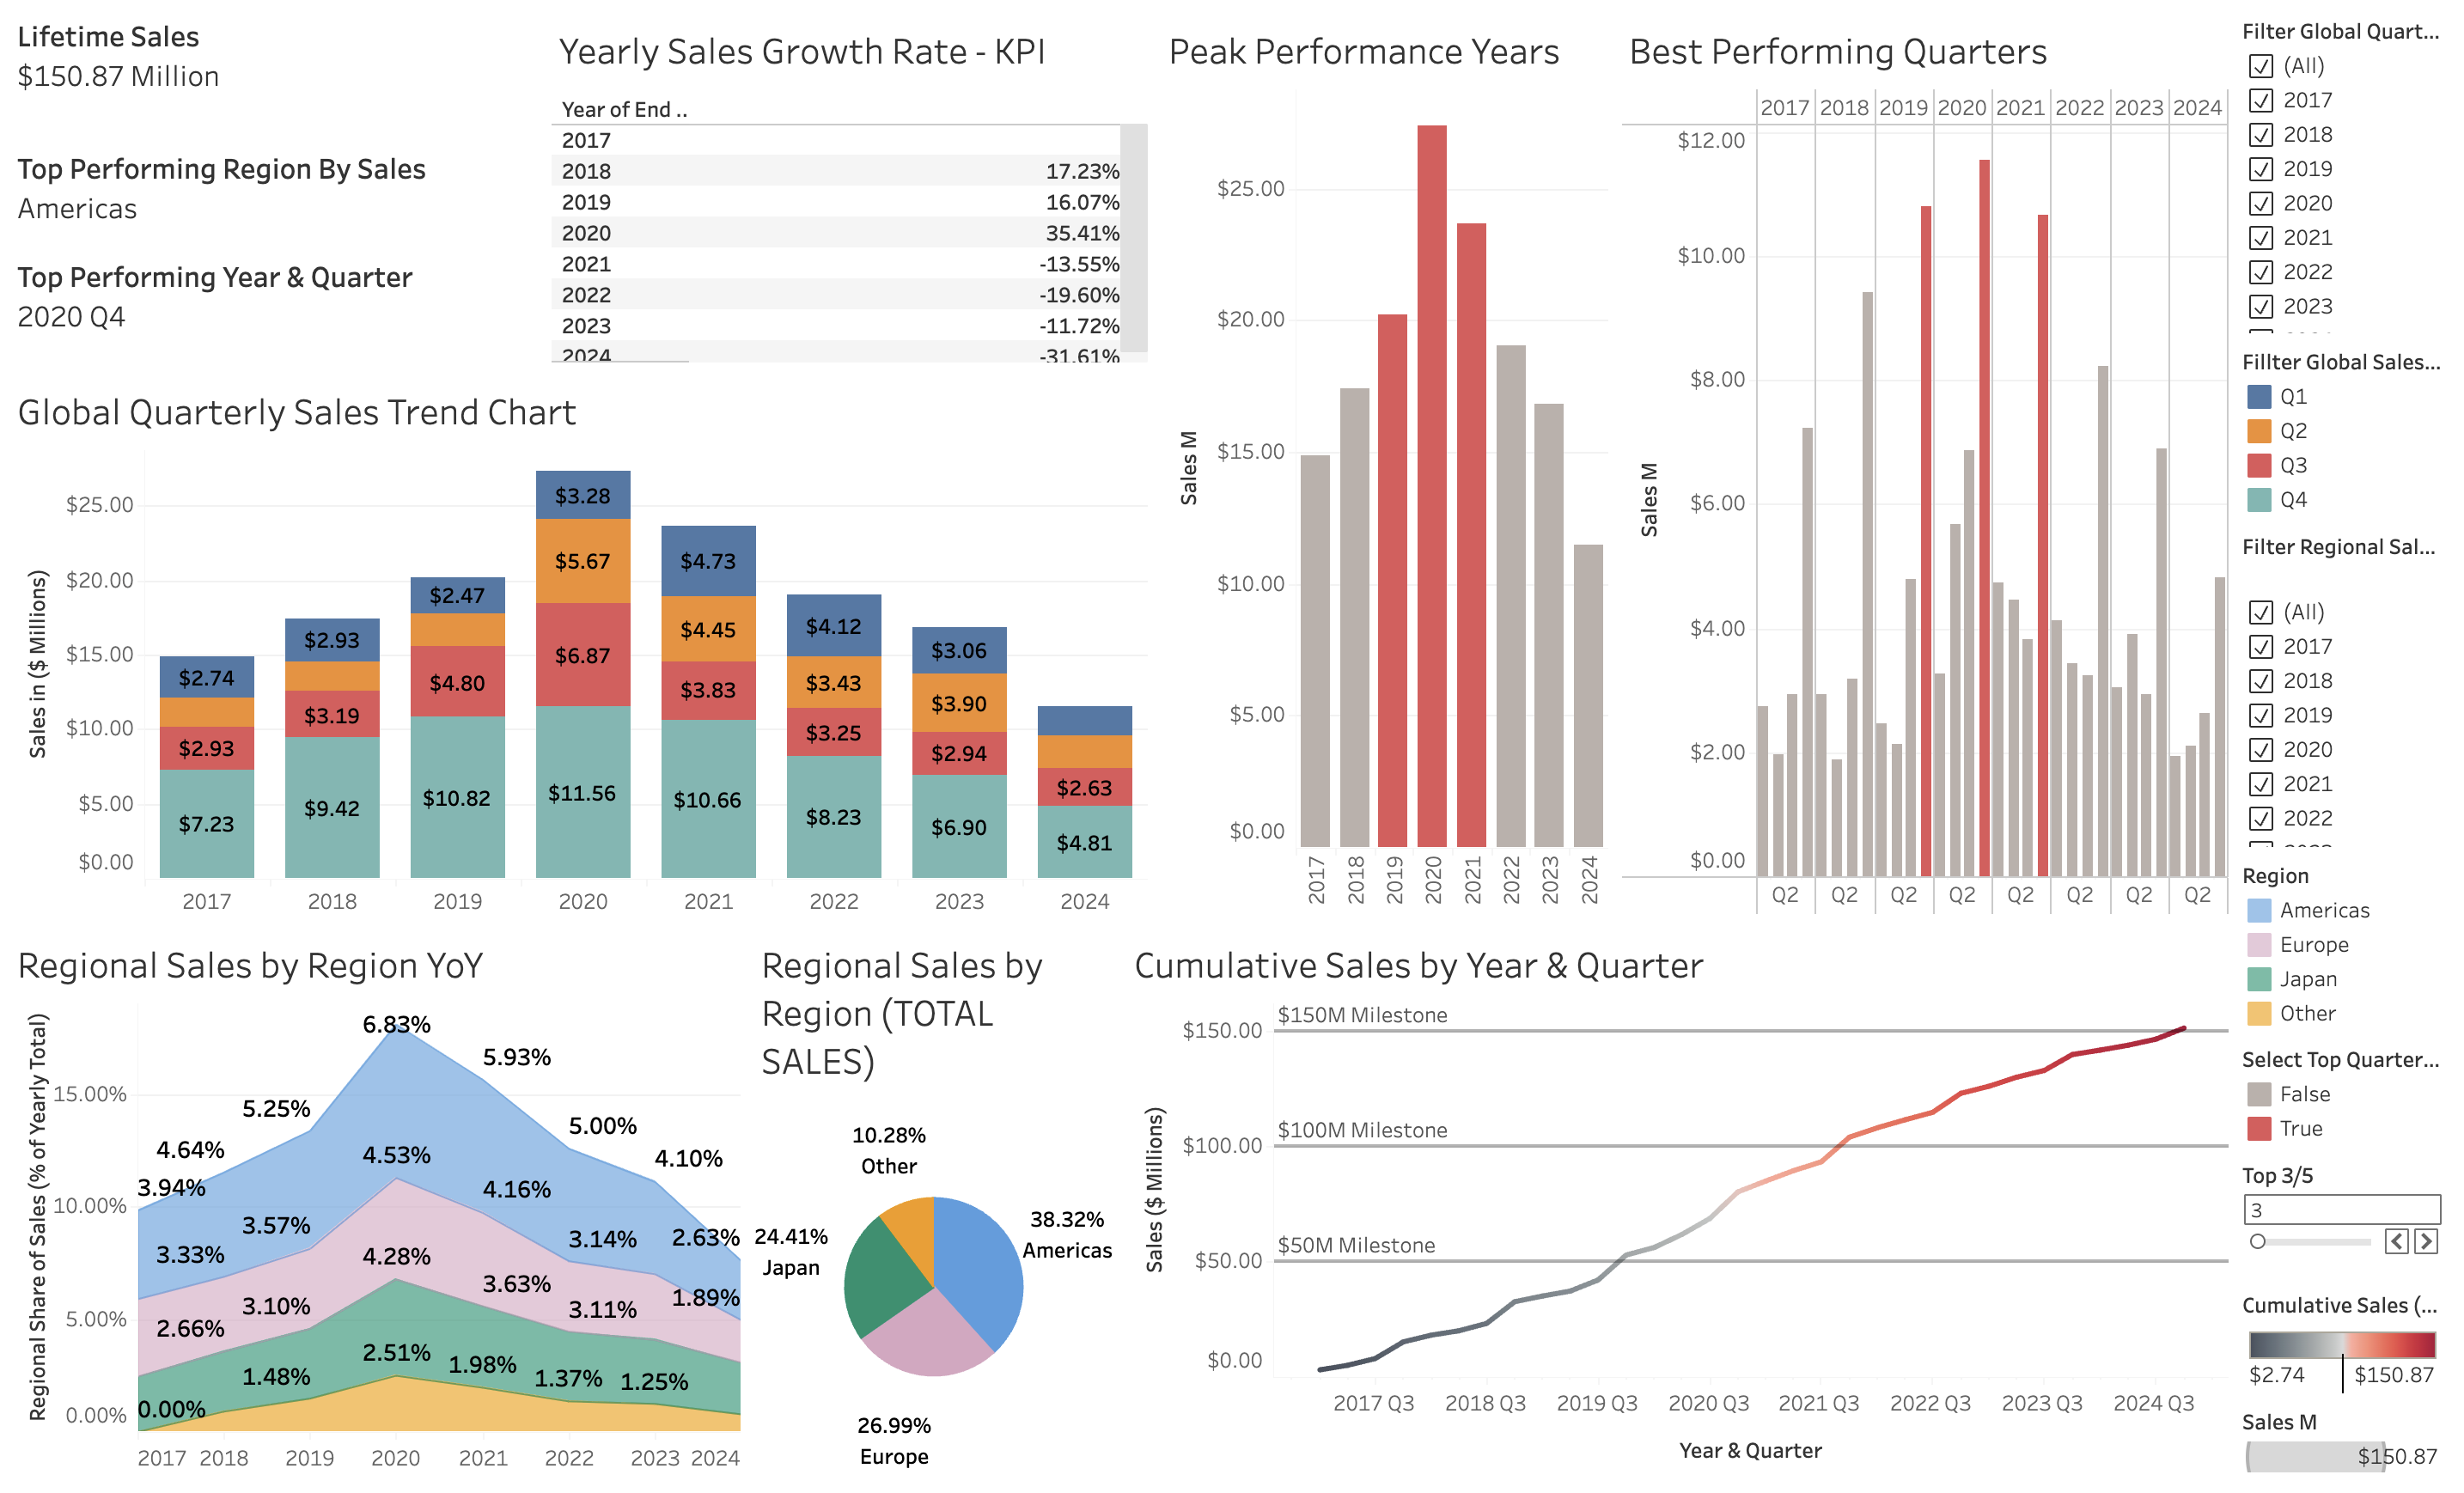

This screenshot's page, from the dashboard's own definition file:
{"tool":"tableau","page":{"name":"Dashboard 1","canvas":[1000,1000],"units":"permille","ordinal":0},"visuals":[{"type":"worksheet","title":"Lifetime Sales ","mark":"Automatic","box":[12.2,13.1,190.4,79.5]},{"type":"worksheet","title":"Yearly Sales Growth Rate - KPI ","mark":"Automatic","rows":["End Date of Quarter"],"box":[202.6,13.1,214.1,238.7]},{"type":"worksheet","title":"Peak Performance Years","mark":"Automatic","rows":["Sales_M"],"cols":["Year (Wide Format NS Sales)"],"box":[416.7,13.1,162,605.1]},{"type":"worksheet","title":"Best Performing Quarters ","mark":"Bar","rows":["Sales_M"],"cols":["End Date of Quarter","End Date of Quarter"],"box":[578.7,13.1,217.9,605.1]},{"type":"filter","title":"Global Quarterly Sales Trend Chart ","param":"[federated.0vml5490pm4uvx11djed209d60ol].[yr:End Date of Quarter:ok]","box":[796.6,13.1,191.1,140.7]},{"type":"worksheet","title":"Top Performing Region by Sales - KPI ","mark":"Automatic","box":[12.2,92.6,190.4,79.5]},{"type":"legend","title":"Global Quarterly Sales Trend Chart ","param":"[federated.0vml5490pm4uvx11djed209d60ol].[qr:End Date of Quarter:ok]","box":[796.6,153.8,191.1,140.7]},{"type":"worksheet","title":"Top Performing Year & Quarter","mark":"Automatic","box":[12.2,172.2,190.4,79.5]},{"type":"worksheet","title":"Global Quarterly Sales Trend Chart ","mark":"Bar","rows":["Sales_M"],"cols":["End Date of Quarter"],"box":[12.2,251.7,404.5,366.4]},{"type":"filter","title":"Regional Sales by Region YoY ","param":"[federated.0vml5490pm4uvx11djed209d60ol].[yr:End Date of Quarter:ok]","box":[796.6,294.4,191.1,140.7]},{"type":"legend","title":"Regional Sales by Region YoY ","param":"[federated.0vml5490pm4uvx11djed209d60ol].[none:Region:nk]","box":[796.6,435.2,191.1,140.7]},{"type":"legend","title":"Peak Performance Years","param":"[federated.0vml5490pm4uvx11djed209d60ol].[usr:Calculation_7210263049554825230:nk","box":[796.6,575.9,191.1,107.7]},{"type":"worksheet","title":"Regional Sales by Region YoY ","mark":"Area","rows":["Calculation1"],"cols":["End Date of Quarter"],"box":[12.2,618.1,261.3,368.8]},{"type":"worksheet","title":"Regional Sales by Region (TOTAL SALES) ","mark":"Pie","box":[273.5,618.1,131.3,368.8]},{"type":"worksheet","title":"Cumulative Sales by Year & Quarter","mark":"Automatic","rows":["Calculation_7210263049562730513"],"cols":["Year_Quarter"],"box":[404.8,618.1,391.9,368.8]},{"type":"parameter","param":"[Parameters].[Parameter 1]","box":[796.6,683.5,191.1,122.4]},{"type":"legend","title":"Cumulative Sales by Year & Quarter","param":"[federated.0vml5490pm4uvx11djed209d60ol].[usr:Calculation_7210263049562730513:qk","box":[796.6,805.9,191.1,106]},{"type":"legend","title":"Regional Sales by Region (TOTAL SALES) ","param":"[federated.0vml5490pm4uvx11djed209d60ol].[sum:Sales_M:qk]","box":[796.6,911.9,191.1,75]}]}

Visuals, with their boxes on the dashboard's canvas, which has no fixed pixel size, in thousandths of its width and height (x1, y1, x2, y2). These are canvas units, not pixel positions in the 2464x1493 screenshot, which may show the page scaled, cropped or inside an application window:
"Lifetime Sales " worksheet: crop(12, 13, 203, 93)
"Yearly Sales Growth Rate - KPI " worksheet: crop(203, 13, 417, 252)
"Peak Performance Years" worksheet: crop(417, 13, 579, 618)
"Best Performing Quarters " worksheet (Bar marks): crop(579, 13, 797, 618)
"Global Quarterly Sales Trend Chart " filter: crop(797, 13, 988, 154)
"Top Performing Region by Sales - KPI " worksheet: crop(12, 93, 203, 172)
"Global Quarterly Sales Trend Chart " legend: crop(797, 154, 988, 294)
"Top Performing Year & Quarter" worksheet: crop(12, 172, 203, 252)
"Global Quarterly Sales Trend Chart " worksheet (Bar marks): crop(12, 252, 417, 618)
"Regional Sales by Region YoY " filter: crop(797, 294, 988, 435)
"Regional Sales by Region YoY " legend: crop(797, 435, 988, 576)
"Peak Performance Years" legend: crop(797, 576, 988, 684)
"Regional Sales by Region YoY " worksheet (Area marks): crop(12, 618, 274, 987)
"Regional Sales by Region (TOTAL SALES) " worksheet (Pie marks): crop(274, 618, 405, 987)
"Cumulative Sales by Year & Quarter" worksheet: crop(405, 618, 797, 987)
parameter: crop(797, 684, 988, 806)
"Cumulative Sales by Year & Quarter" legend: crop(797, 806, 988, 912)
"Regional Sales by Region (TOTAL SALES) " legend: crop(797, 912, 988, 987)
